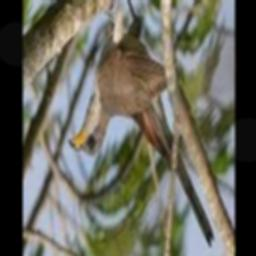Cuckoo: (67, 0, 213, 247)
